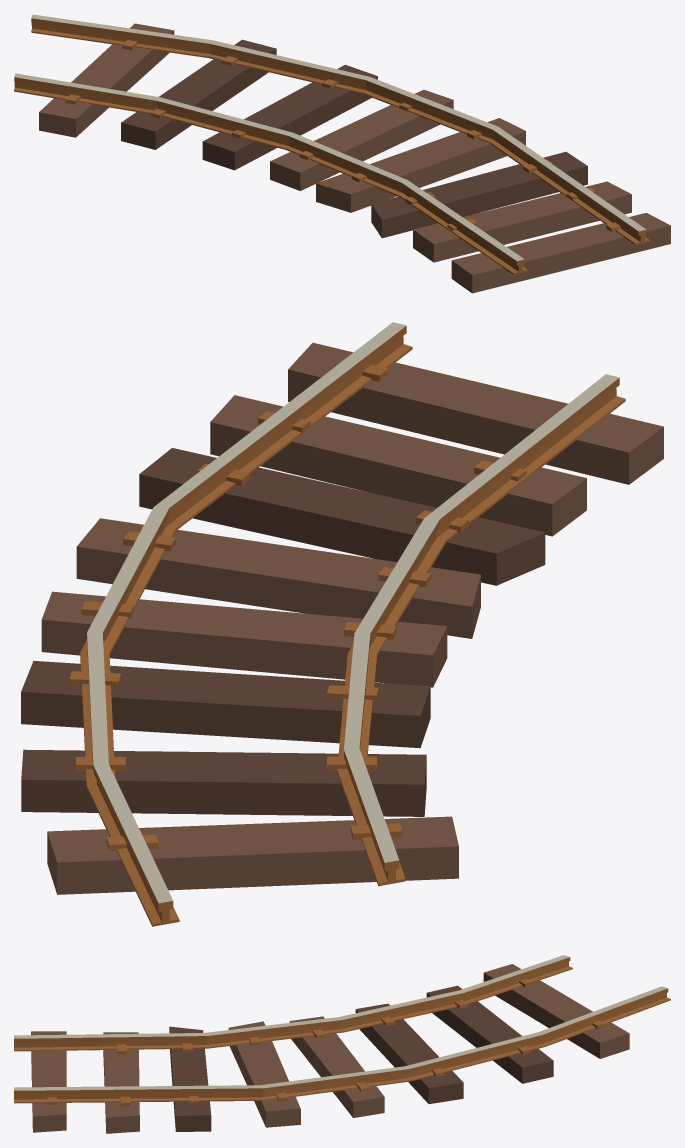
File: Train Track 8 M Curve.glb
The picture shows the model from 3 angles, top to bottom: view 1: azimuth 30°, elevation 25°; view 2: azimuth 150°, elevation 25°; view 3: azimuth 270°, elevation 25°; orthographic projection. The views are drawn at different scales.
Parts seen in each view (by area): view 1: Train Track 8 M Curve; view 2: Train Track 8 M Curve; view 3: Train Track 8 M Curve.
Part boxes in pixels (x1,y1,x2,y2): Train Track 8 M Curve: [14, 14, 670, 293]; Train Track 8 M Curve: [21, 322, 663, 926]; Train Track 8 M Curve: [14, 955, 670, 1133].
Size of what is drawn, in the model's own units: 4.15 by 0.3385 by 7.48.
Materials: 1 (1 with a texture image).
